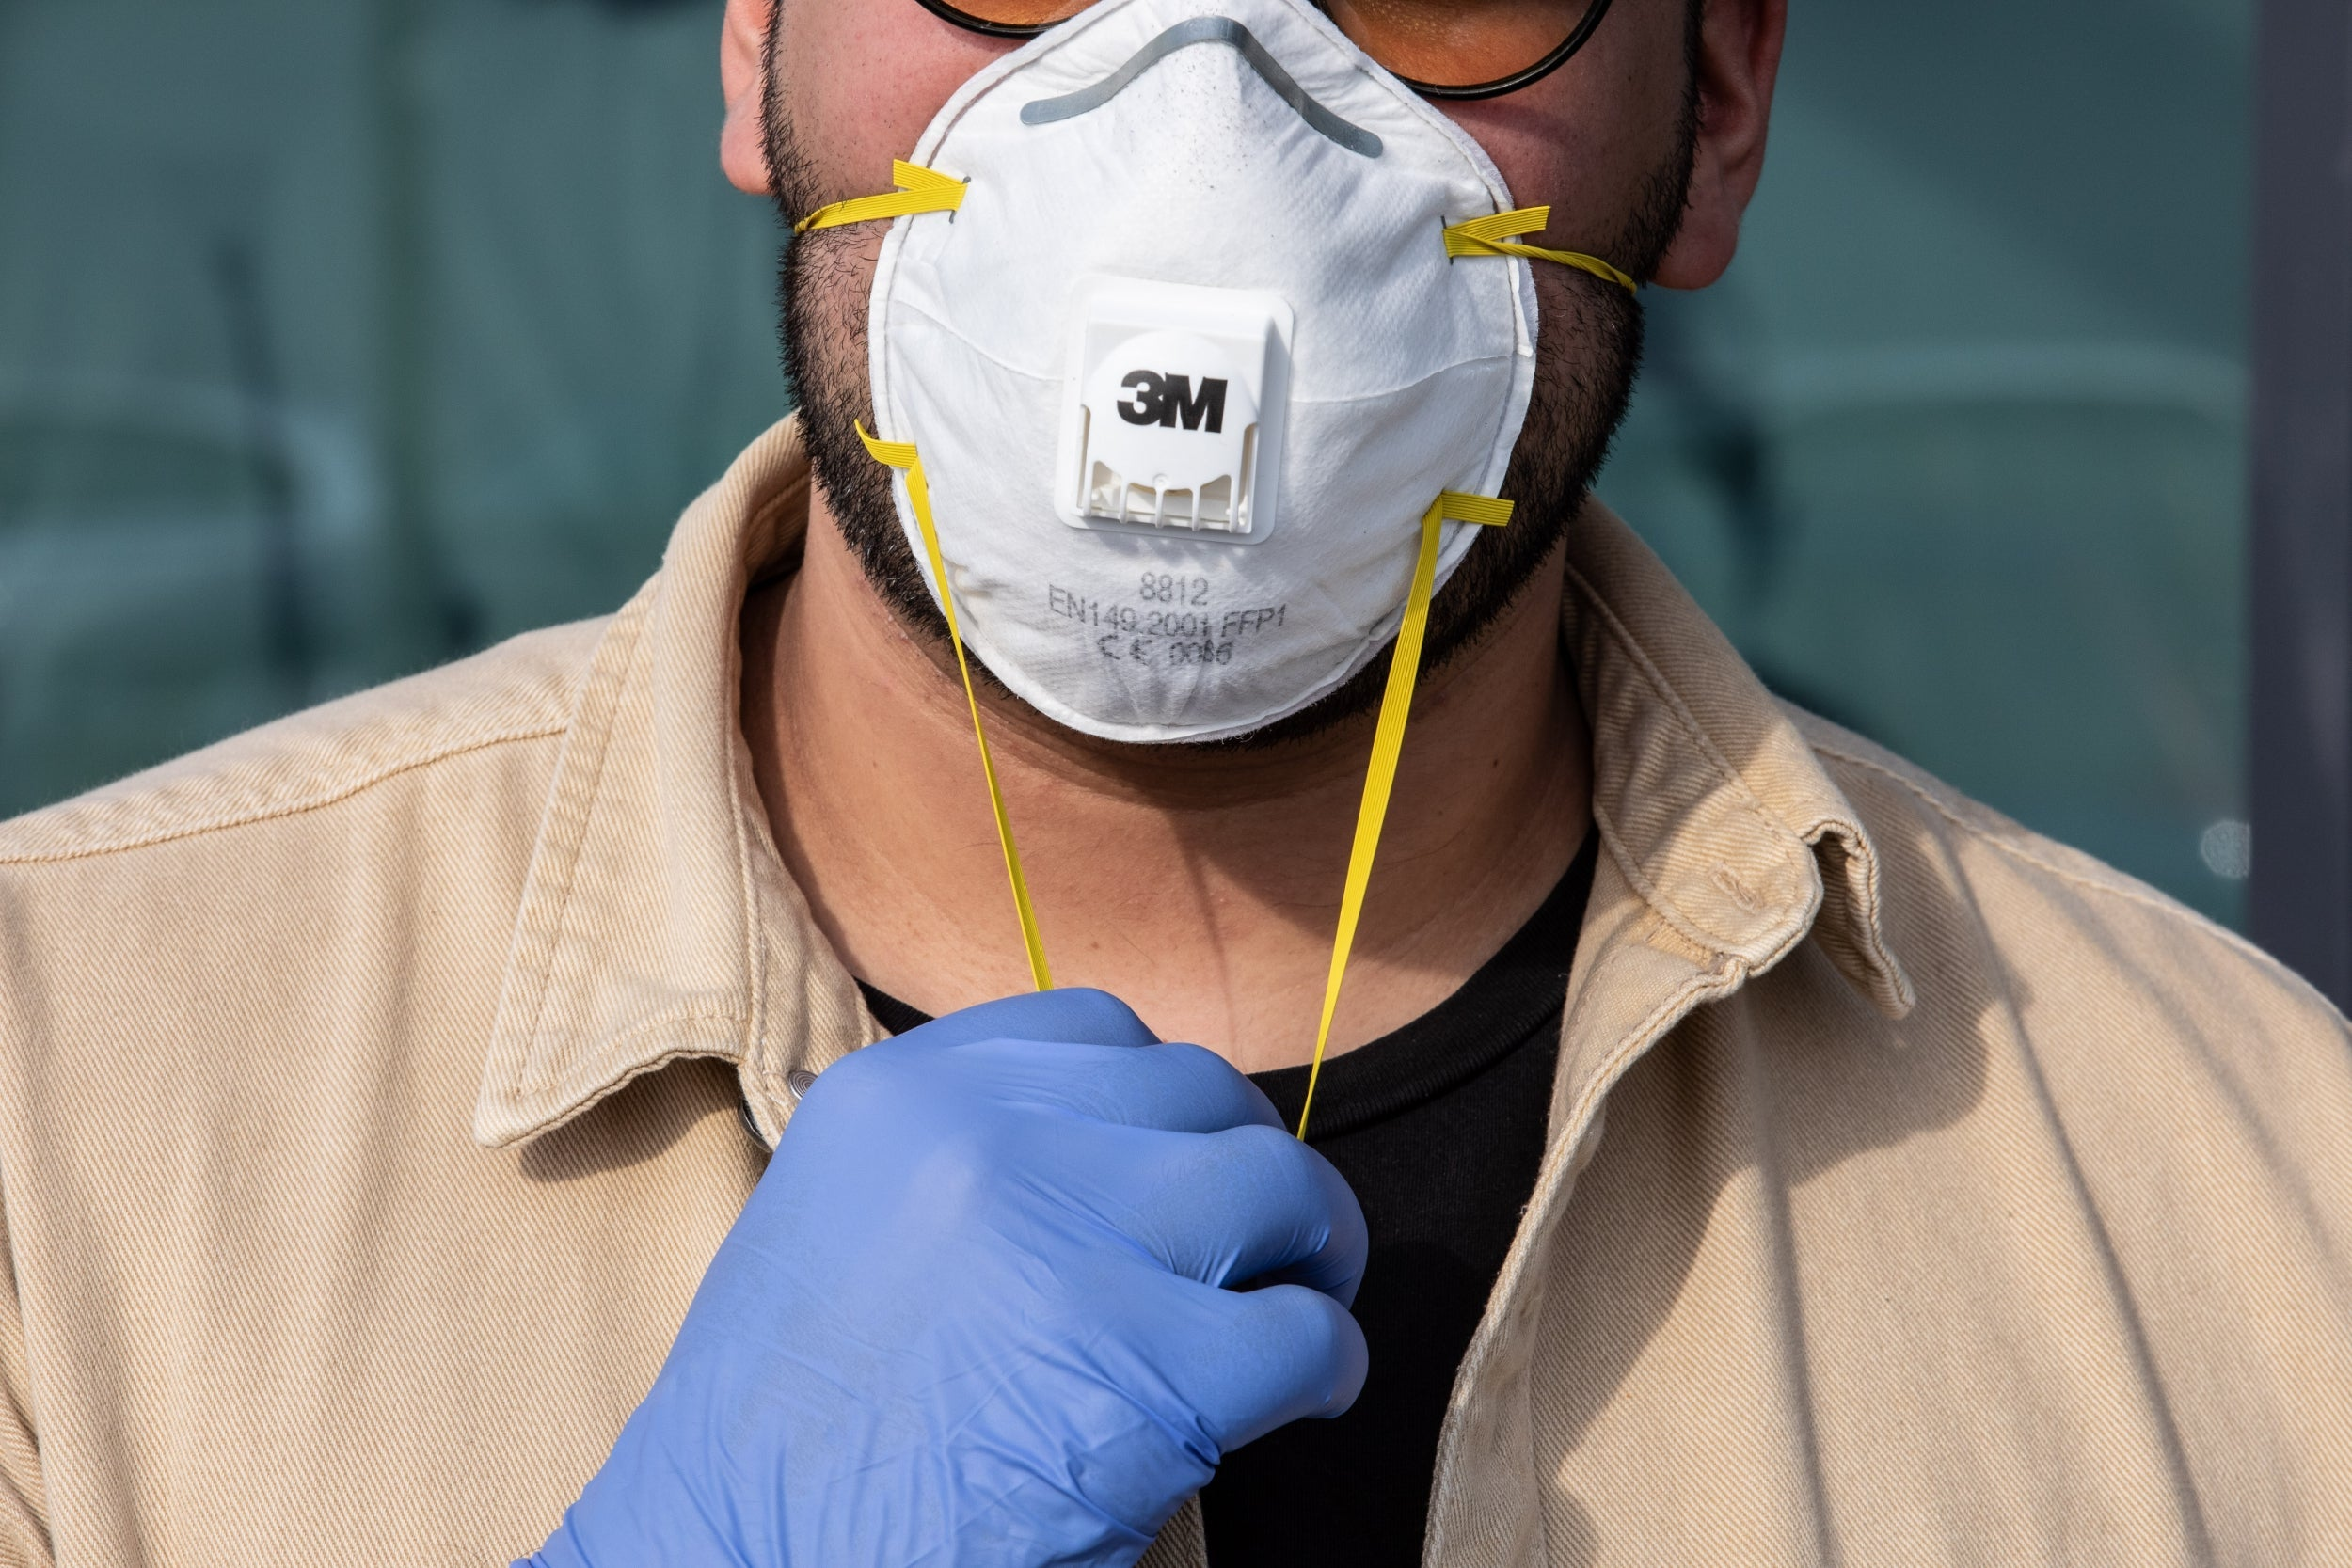n95: (814, 2, 1590, 759)
